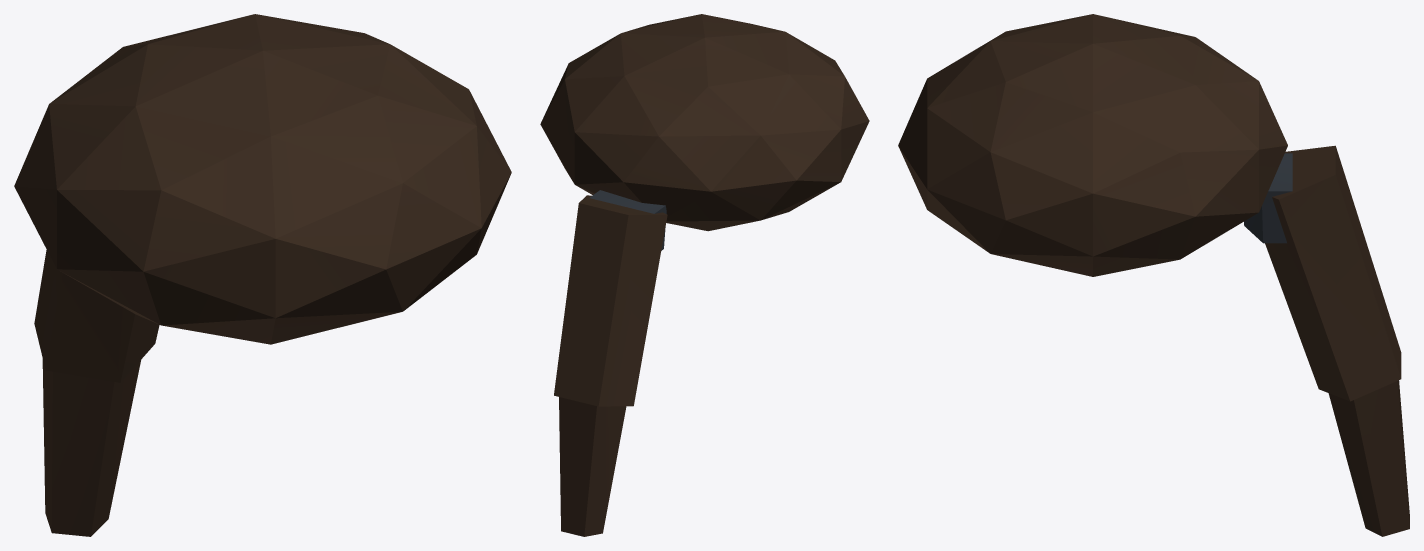
File: hair.ponytail.glb
3 views of the same model, side by side, from view 1: azimuth 30°, elevation 25°; view 2: azimuth 150°, elevation 25°; view 3: azimuth 270°, elevation 25° (orthographic). The views are drawn at different scales.
Visible parts, largest first — view 1: head@ponytail.team.hair; view 2: head@ponytail.team.hair, head@ponytail.base; view 3: head@ponytail.team.hair, head@ponytail.base.
Boxes of the visible parts, x1,y1,x2,y2 form: head@ponytail.team.hair: (14,14,511,536); head@ponytail.team.hair: (540,14,869,536); head@ponytail.base: (589,190,666,250); head@ponytail.team.hair: (898,14,1409,536); head@ponytail.base: (1244,153,1292,243).
Size of the model in its own units: 0.2708 by 0.3845 by 0.3681.
